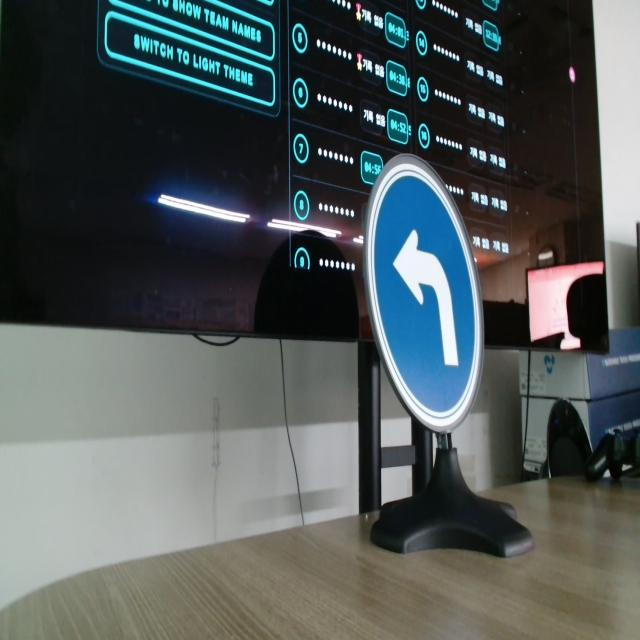left_direction: (358, 152, 490, 432)
